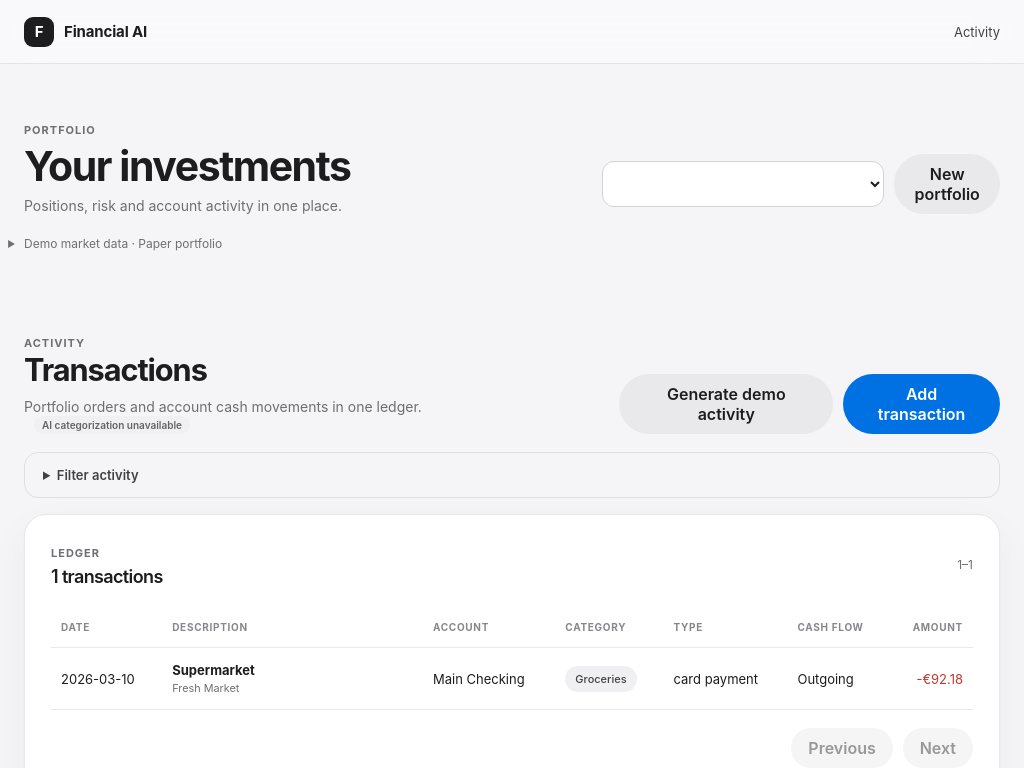
it: opens the transaction history and add transaction form
Expected: the heading "Transactions" is shown, [24,351,207,388]
Expected: the text "Supermarket" is shown, [172,662,255,678]
Click the button "Add transaction" at (922, 404), box [843,374,1000,434]
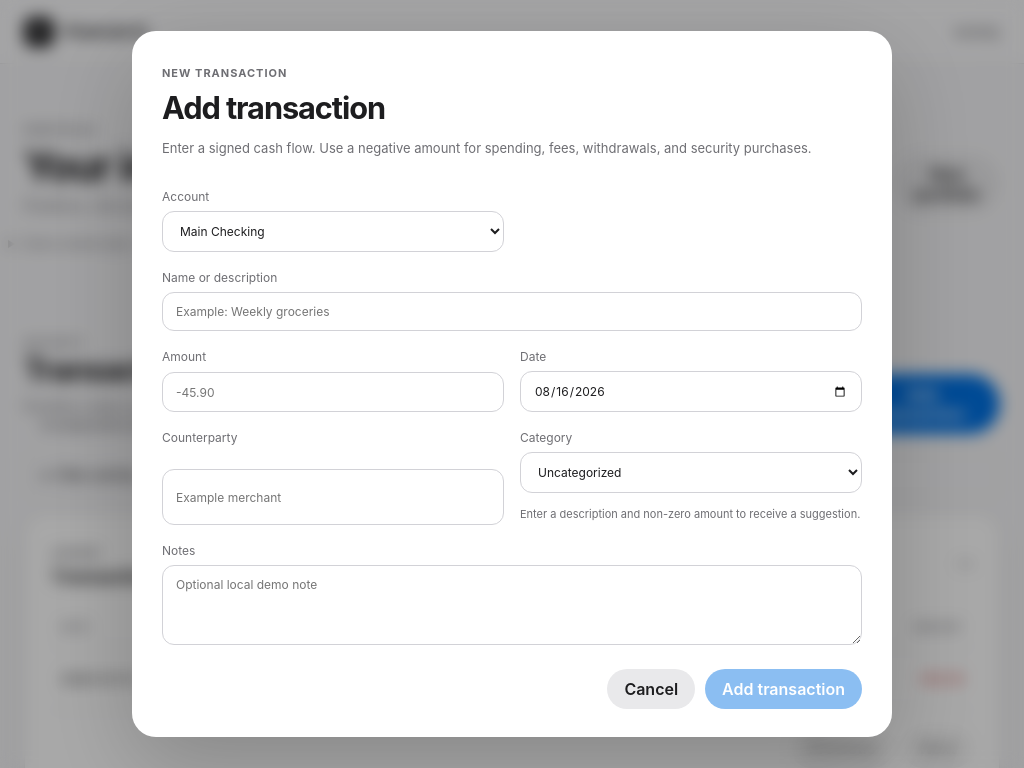
Expected: the dropdown labelled "Category" shows "Uncategorized", [520,452,862,493]
